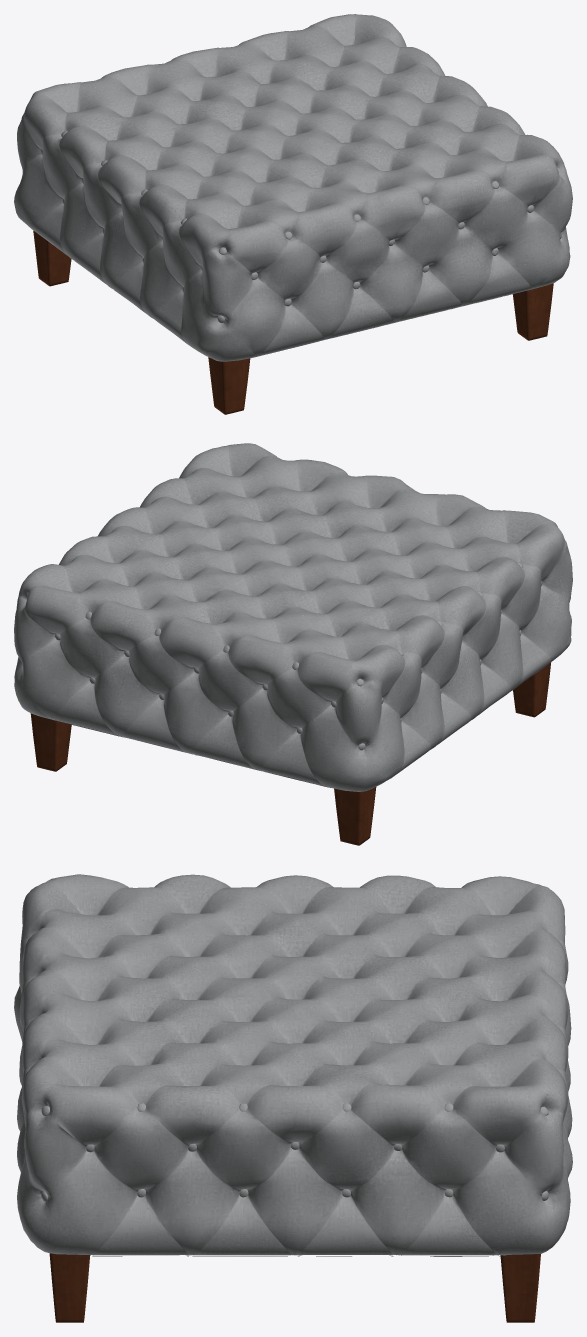
Rendered from abo-B07DBKNWZT.glb.
The picture shows the model from 3 angles, top to bottom: view 1: azimuth 30°, elevation 25°; view 2: azimuth 150°, elevation 25°; view 3: azimuth 270°, elevation 25°; orthographic projection. The views are drawn at different scales.
Size of the model in its own units: 0.758 by 0.3649 by 0.764.
Materials: 1 (1 with a texture image).
